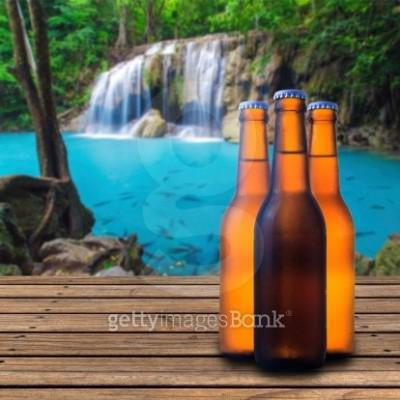beer: (218, 86, 358, 371)
